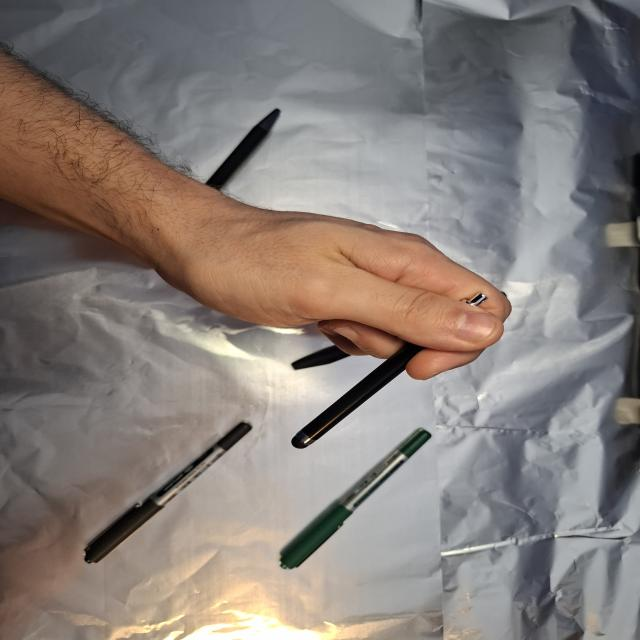glove_off: (140, 196, 515, 382)
